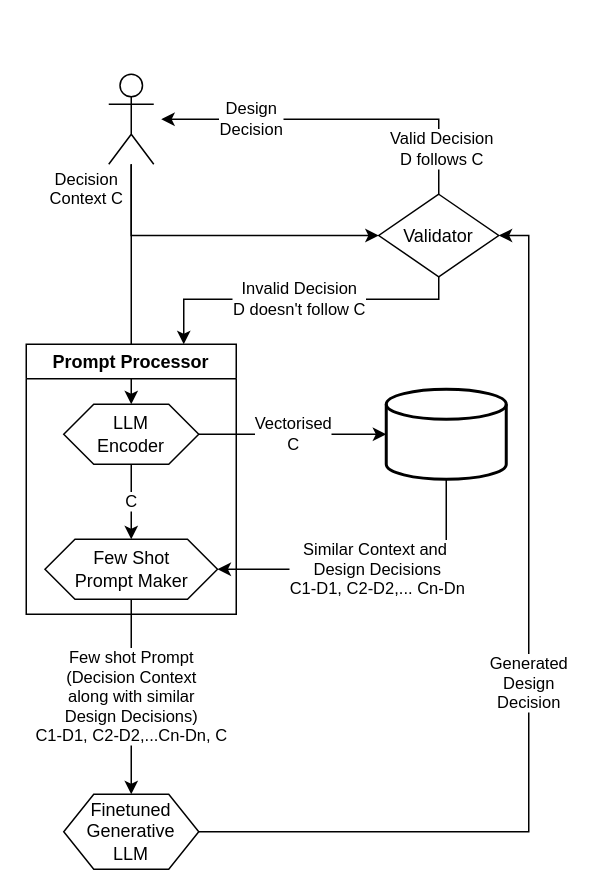
Image size: 594x896. Some labels were removed from this diagram. The shapes that lost their labels are listed below. From the top down, each one's centre as x and y in pixels, then its label:
At (130,118): "Architect with a Decision Problem".
At (445,433): "Previous Design Decisions".
